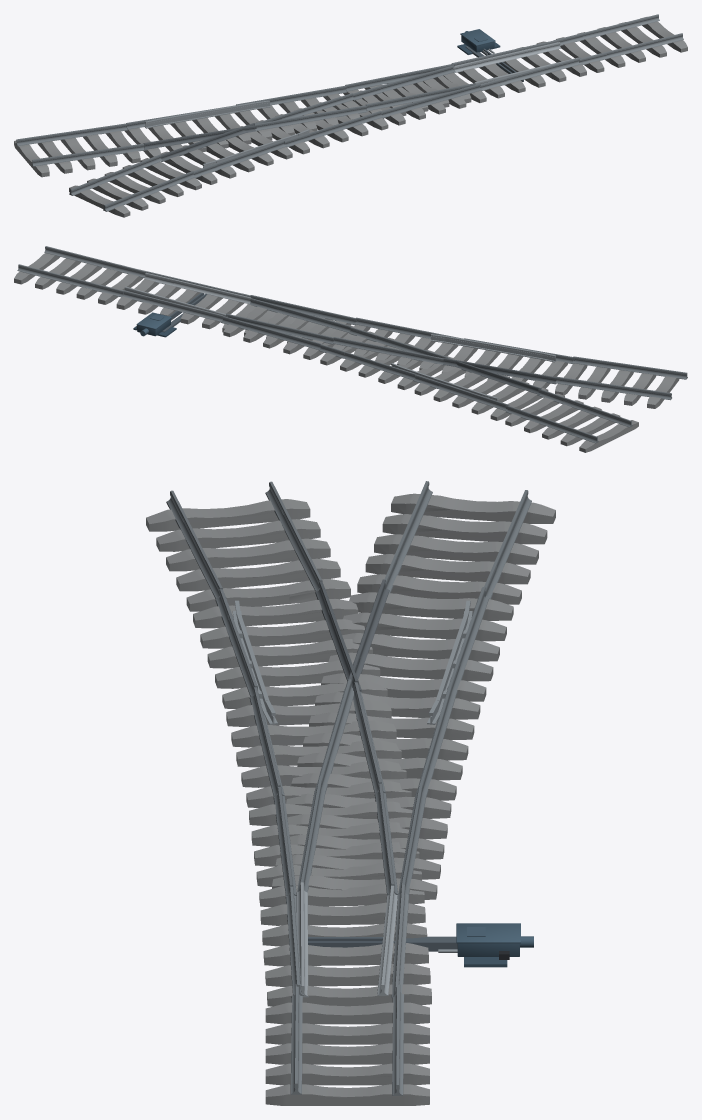
File: turnout.glb
3 renders of one model, top to bottom at view 1: azimuth 30°, elevation 25°; view 2: azimuth 150°, elevation 25°; view 3: azimuth 270°, elevation 25°, orthographic. The views are drawn at different scales.
Visible parts, largest first — view 1: turnout_ties, turnout_closure, turnout_stock, turnout_guard, turnout_frog, turnout_blade_r, turnout_machine; view 2: turnout_ties, turnout_closure, turnout_stock, turnout_guard, turnout_frog, turnout_blade_l, turnout_machine, turnout_blade_r; view 3: turnout_ties, turnout_closure, turnout_stock, turnout_machine, turnout_guard, turnout_frog, turnout_rods, turnout_blade_r, turnout_blade_l.
Boxes of the visible parts, x1,y1,x2,y2 form: turnout_ties: (14,16,687,217); turnout_closure: (16,64,481,211); turnout_stock: (451,14,683,90); turnout_guard: (144,100,309,167); turnout_frog: (143,123,257,161); turnout_blade_r: (453,42,560,73); turnout_machine: (457,29,500,55); turnout_ties: (14,253,679,452); turnout_closure: (220,295,687,443); turnout_stock: (17,246,250,321); turnout_guard: (391,334,556,400); turnout_frog: (443,358,556,394); turnout_blade_l: (144,272,250,304); turnout_machine: (133,312,176,337); turnout_blade_r: (124,286,227,316); turnout_ties: (146,493,555,1105); turnout_closure: (166,481,531,895); turnout_stock: (285,884,408,1095); turnout_machine: (438,923,533,967); turnout_guard: (232,600,472,724); turnout_frog: (315,579,389,691); turnout_rods: (308,936,457,951); turnout_blade_r: (377,885,397,995); turnout_blade_l: (296,882,308,997).
Bounding box in the file's own units: 22.1 × 0.4023 × 6.33.
